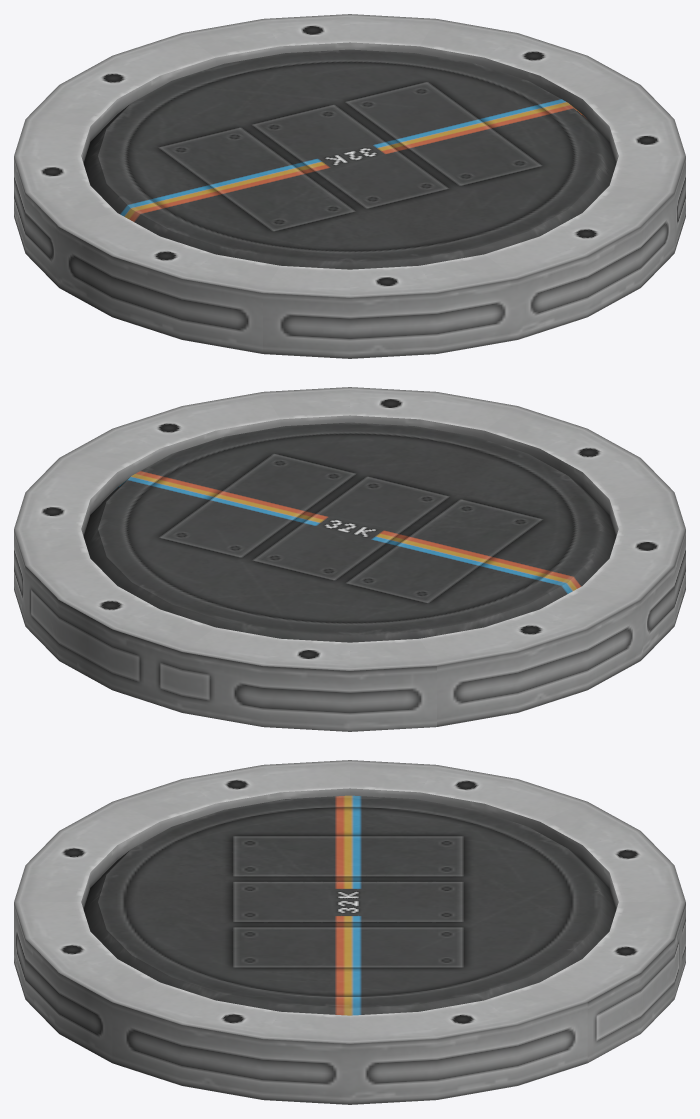
Rendered from castor_control_s1_1.obj.
The picture shows the model from 3 angles, top to bottom: view 1: azimuth 30°, elevation 25°; view 2: azimuth 150°, elevation 25°; view 3: azimuth 270°, elevation 25°; orthographic projection.
Parts seen in each view (by area): view 1: castor_control_s1_1; view 2: castor_control_s1_1; view 3: castor_control_s1_1.
Part boxes in pixels (x1,y1,x2,y2): castor_control_s1_1: (14,14,685,358); castor_control_s1_1: (14,387,685,731); castor_control_s1_1: (14,760,685,1104).
Bounding box in the file's own units: 1.25 × 0.125 × 1.25.
